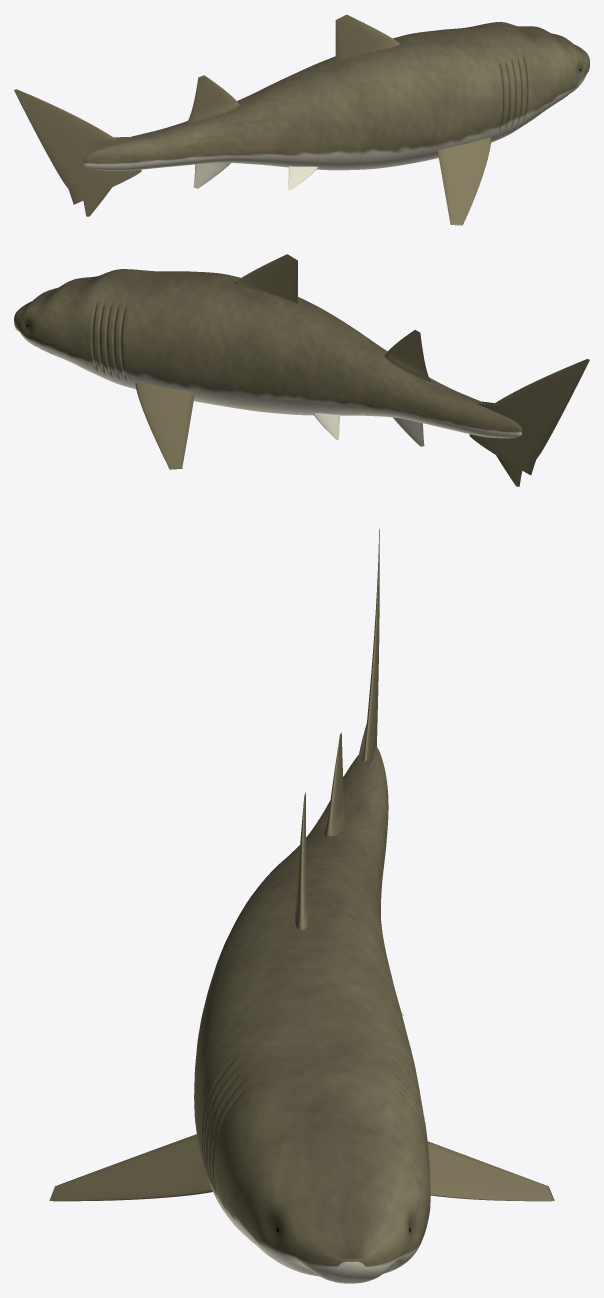
File: lemon_shark.glb
The picture shows the model from 3 angles, top to bottom: view 1: azimuth 30°, elevation 25°; view 2: azimuth 150°, elevation 25°; view 3: azimuth 270°, elevation 25°; orthographic projection. The views are drawn at different scales.
Parts seen in each view (by area): view 1: LemonShark_Body, LemonShark_Fins; view 2: LemonShark_Body, LemonShark_Fins; view 3: LemonShark_Body, LemonShark_Fins.
Boxes of the visible parts, x1,y1,x2,y2 form: LemonShark_Body: (83,22,589,170); LemonShark_Fins: (14,14,491,225); LemonShark_Body: (14,269,521,438); LemonShark_Fins: (135,254,589,486); LemonShark_Body: (194,745,430,1283); LemonShark_Fins: (49,529,554,1201).
Bounding box in the file's own units: 2.7 × 0.8084 × 1.05.
Materials: 3 (1 with a texture image).
